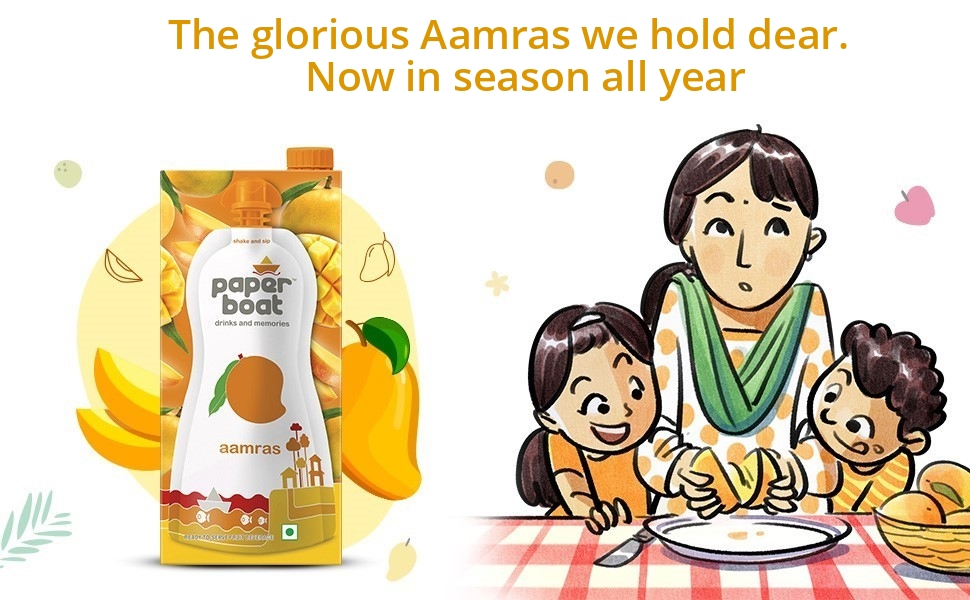Headline: (158, 7, 858, 115)
Product: (146, 139, 350, 571)
logo: (201, 252, 304, 334)
